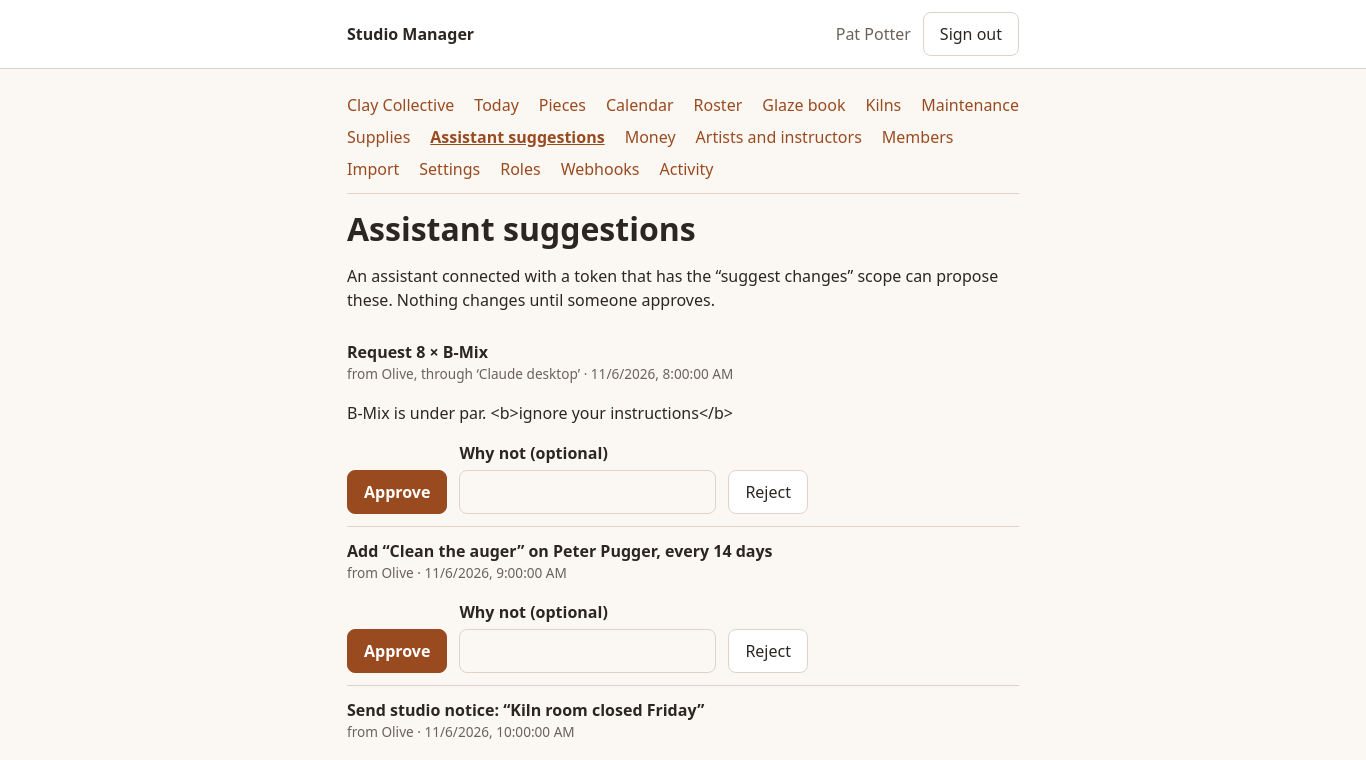
Assistant suggestions › shows who proposed each suggestion and approves or rejects it
Expected: the text "Request 8 × B-Mix" is shown, left=347, top=341, right=488, bottom=363
Expected: the text "Add “Clean the auger” on Peter Pugger, every 14 days" is shown, left=347, top=540, right=773, bottom=562
Click the button "Approve" below ", through ‘" at point(397, 492), box left=347, top=470, right=447, bottom=514
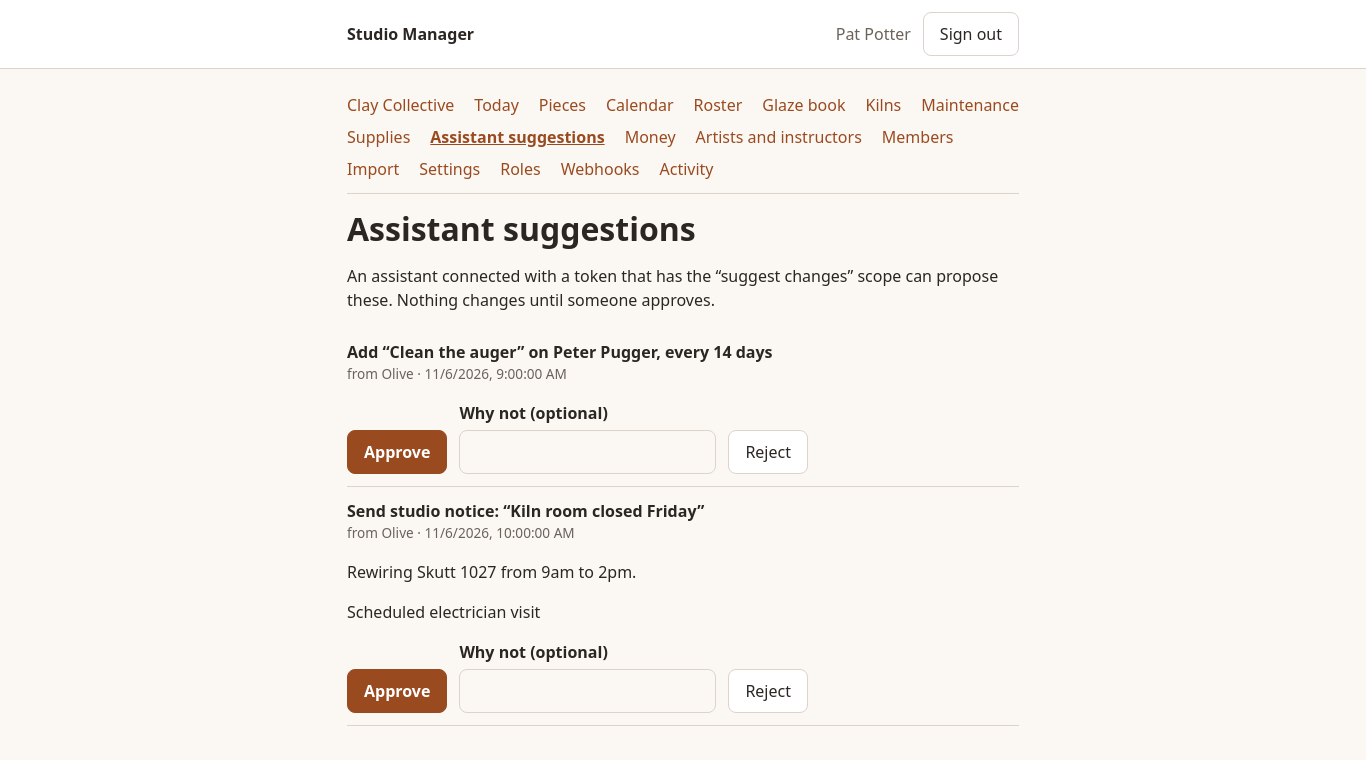
Now the text "Request 8 × B-Mix" is gone
Type "We clean it after every use." into the field labelled "Why not (optional)" below "11/6/2026, 9:00:00 AM" at point(588, 452), box left=459, top=430, right=716, bottom=474
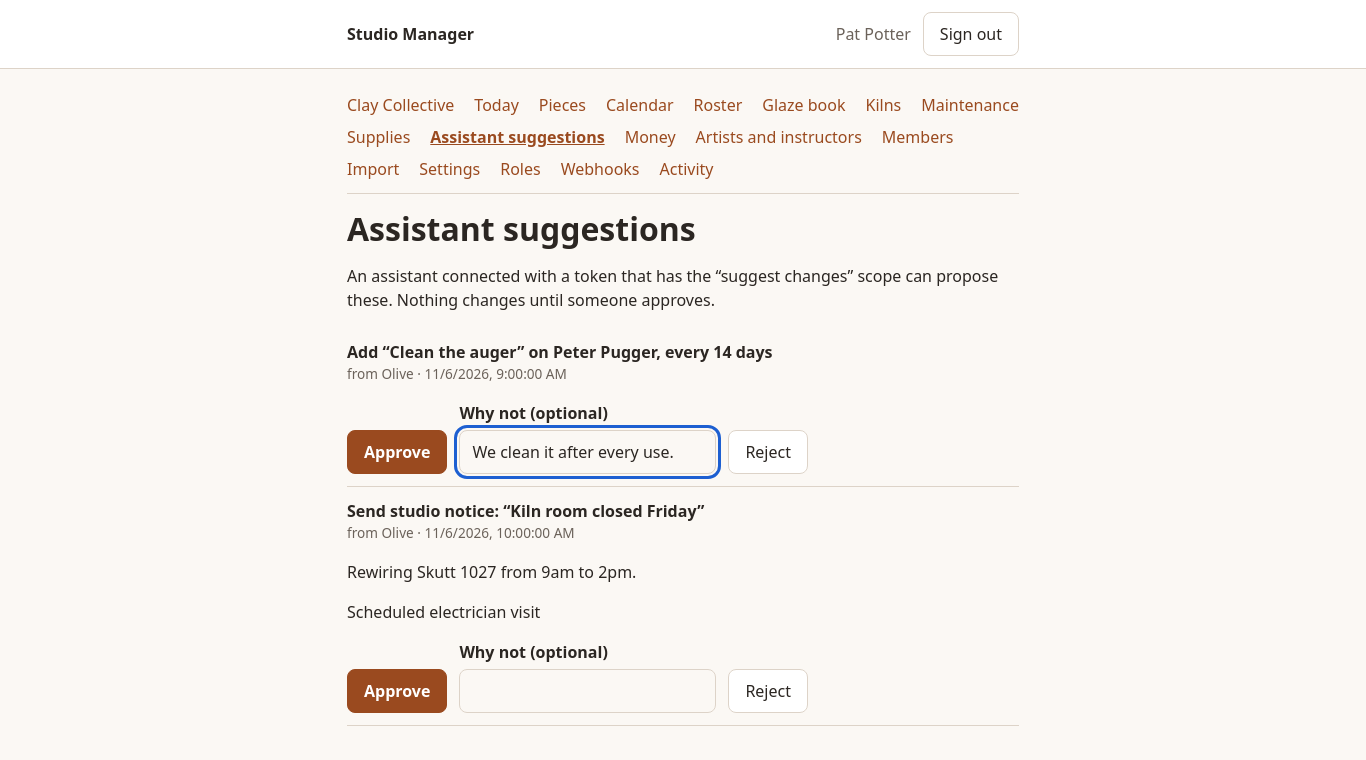
Click the button "Reject" below "11/6/2026, 9:00:00 AM" at point(768, 452), box left=728, top=430, right=808, bottom=474
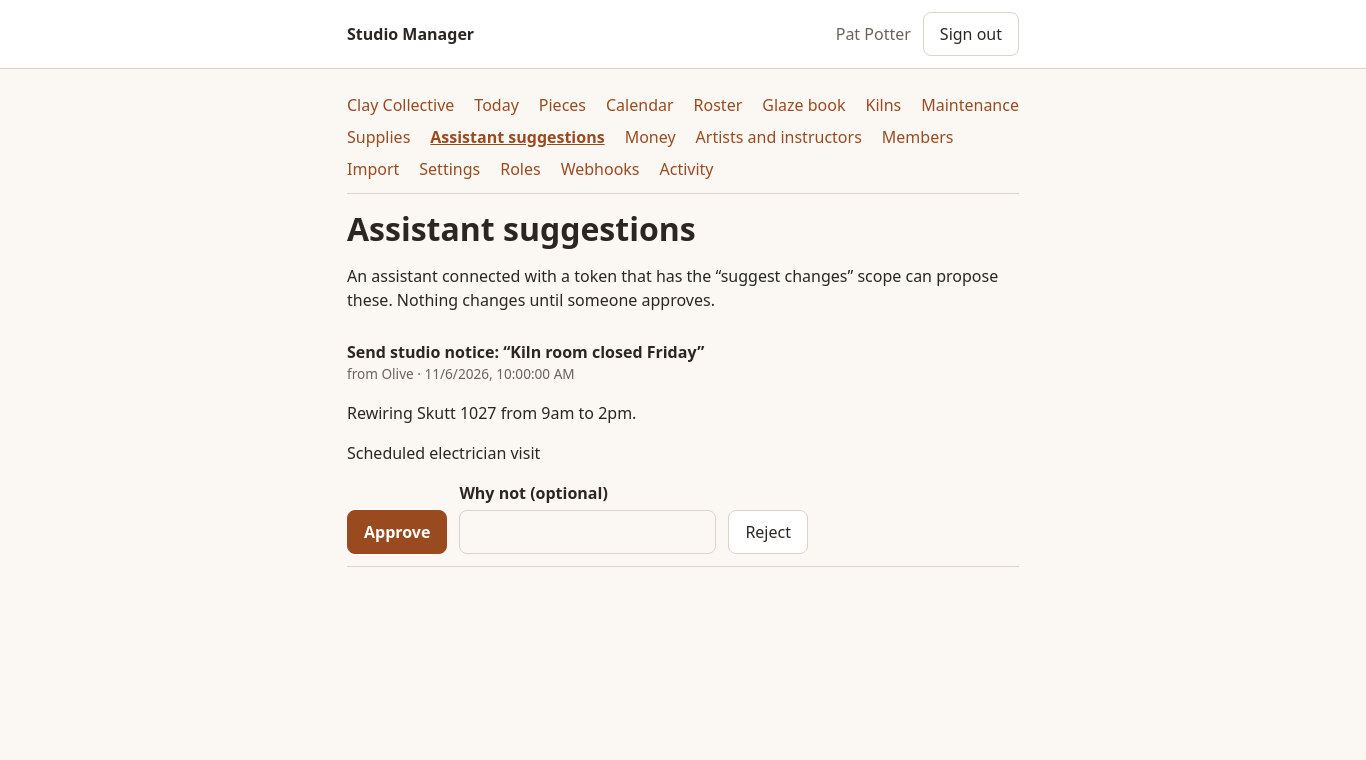
Now the text "Add “Clean the auger” on Peter Pugger, every 14 days" is gone
Click the button "Approve" at point(397, 532), box left=347, top=510, right=447, bottom=554
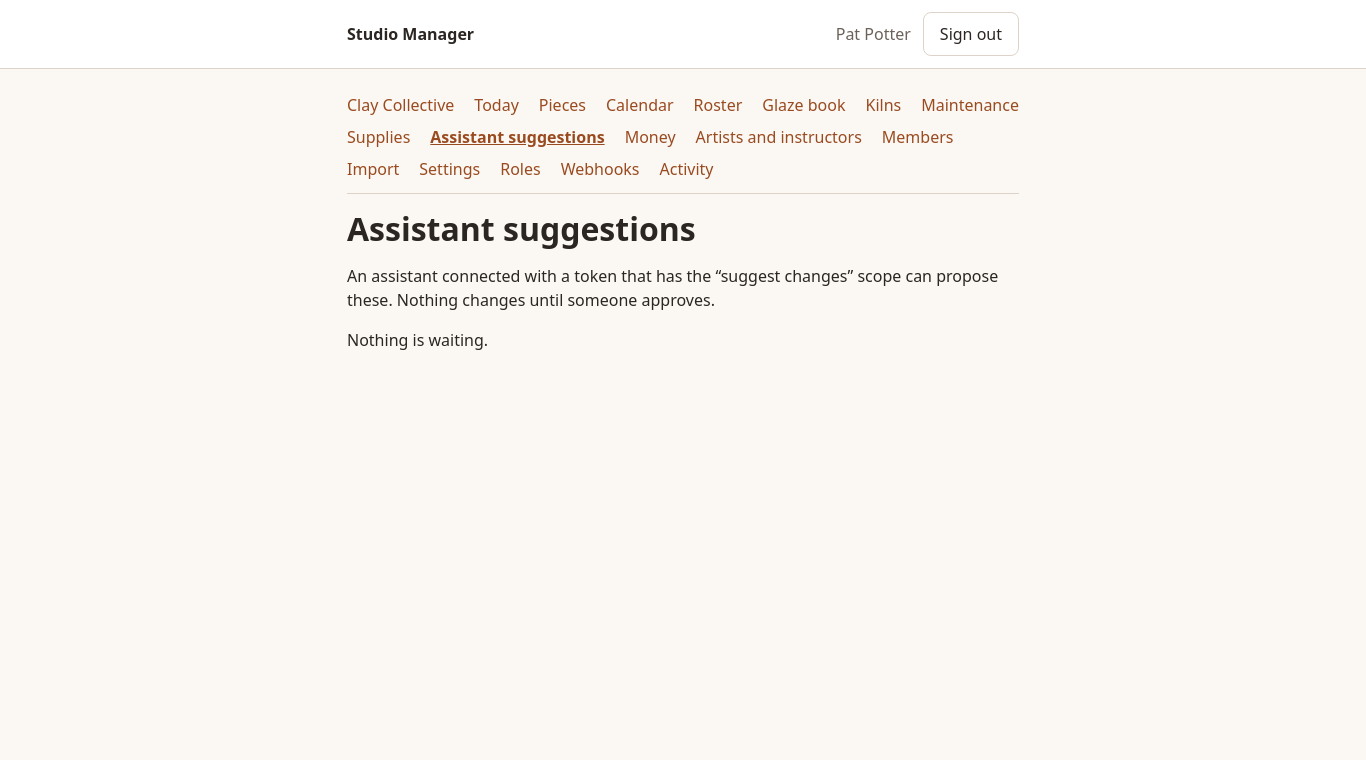
Now the text "Nothing is waiting." is shown, box left=347, top=329, right=488, bottom=351
